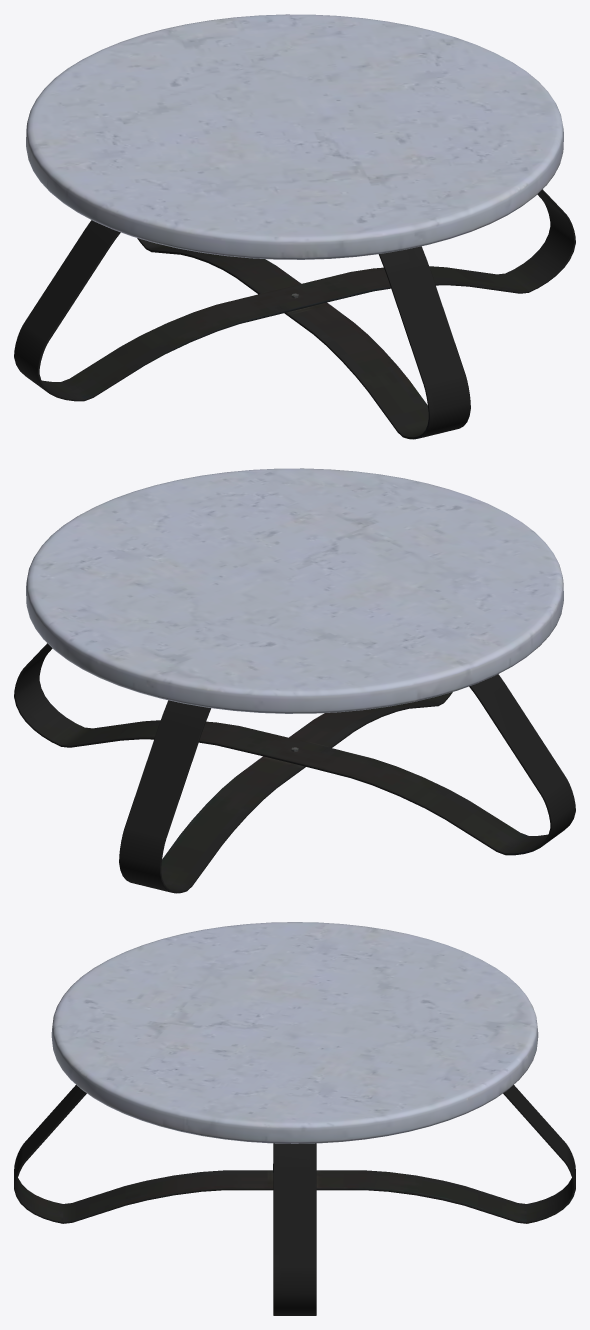
The model's file is coffee_table.glb.
3 views of the same model, one above another, from view 1: azimuth 30°, elevation 25°; view 2: azimuth 150°, elevation 25°; view 3: azimuth 270°, elevation 25° (orthographic). The views are drawn at different scales.
Parts seen in each view (by area): view 1: coffee_table; view 2: coffee_table; view 3: coffee_table.
Boxes of the visible parts, left/top/right/bottom form: coffee_table: left=14, top=14, right=575, bottom=439; coffee_table: left=14, top=468, right=575, bottom=893; coffee_table: left=14, top=922, right=575, bottom=1315.
Bounding box in the file's own units: 1.3 × 0.491 × 1.3.
1 material, 1 textured.
